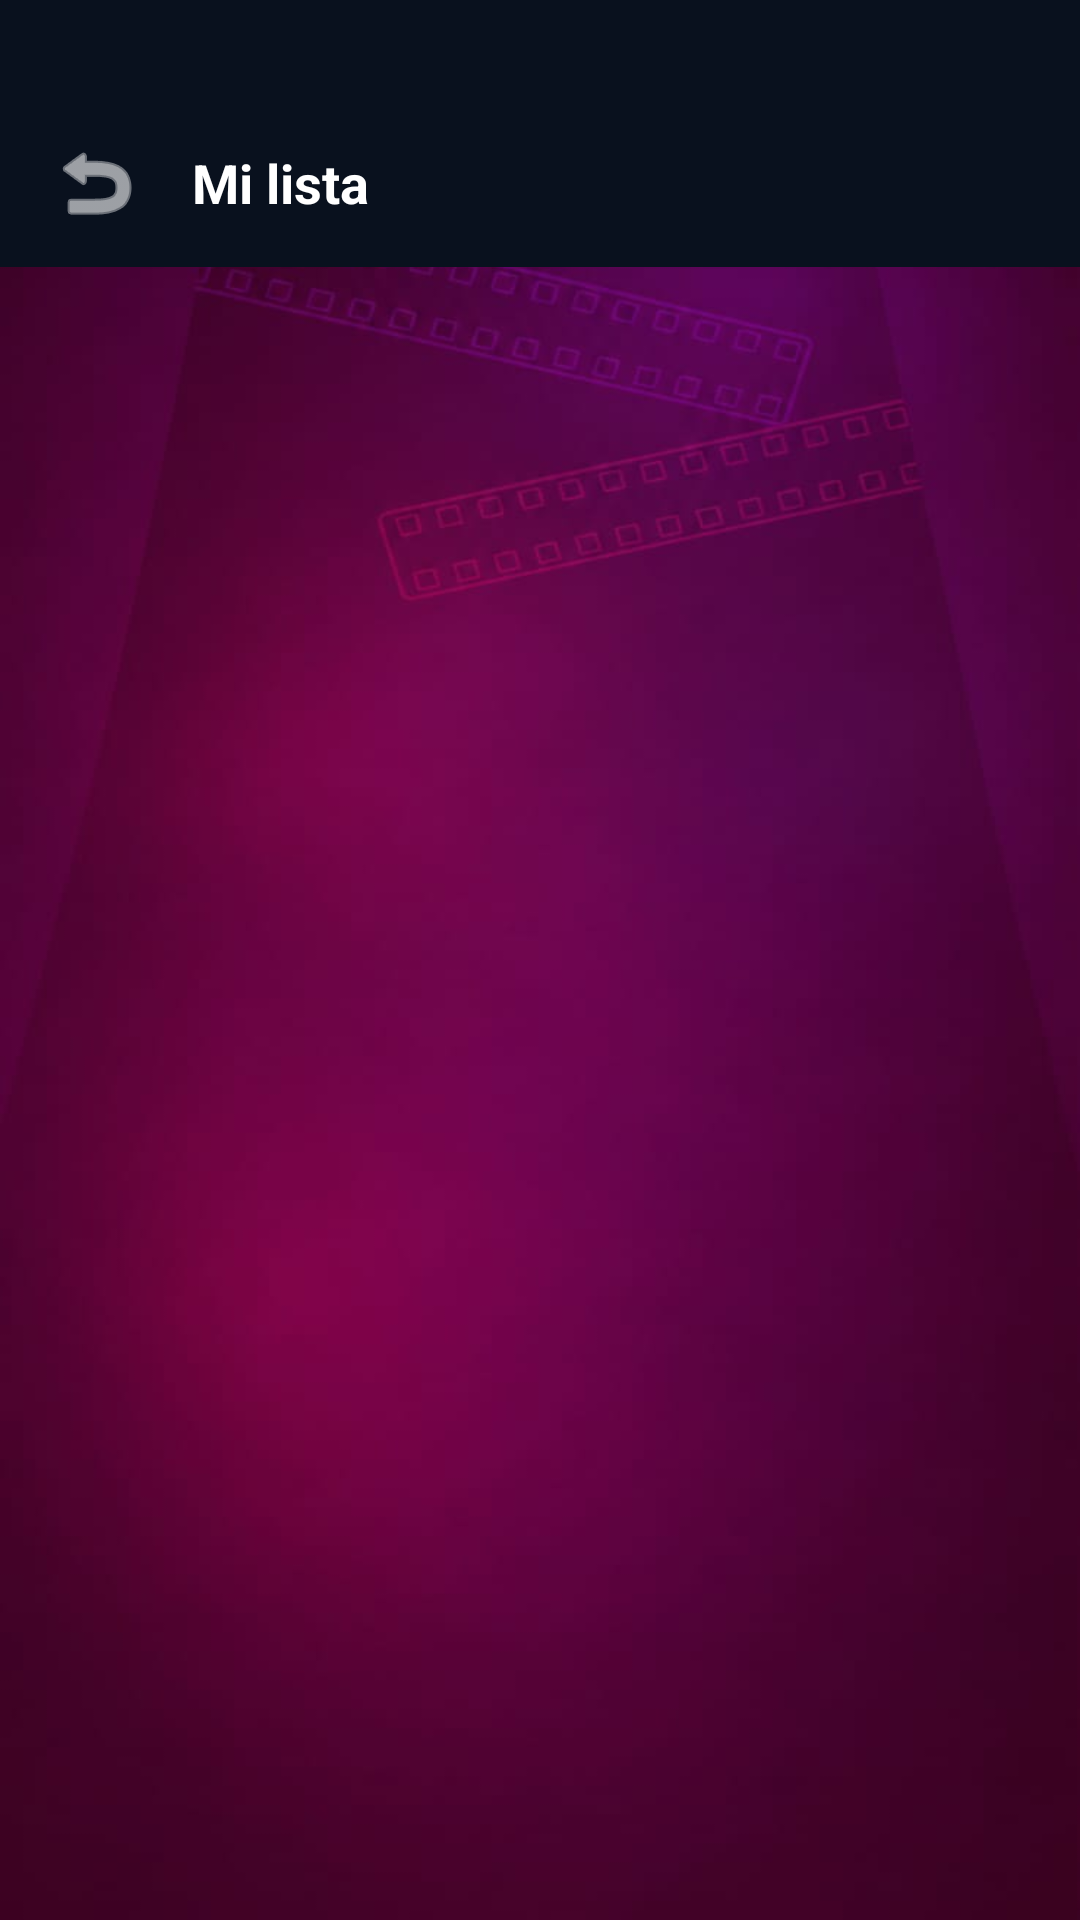

Where to tap for icons on this 1080 × 1920 app screen, as [x,y]:
Volver: [97,183]
